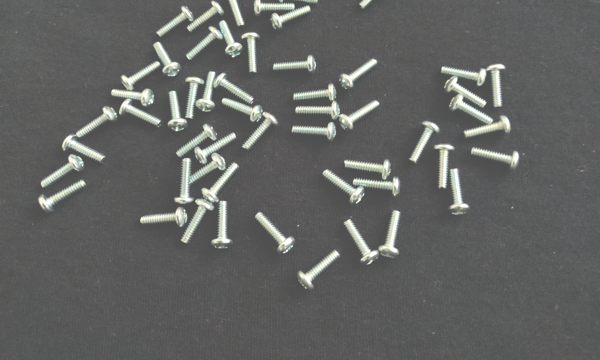shortscrew: (297, 250, 341, 292), (254, 212, 295, 256), (345, 219, 380, 267), (322, 169, 366, 206), (180, 199, 214, 246), (202, 162, 239, 205), (38, 181, 86, 213), (241, 112, 278, 153), (40, 156, 85, 189), (445, 75, 488, 109), (450, 94, 494, 127), (177, 124, 218, 159), (76, 106, 118, 140), (409, 121, 441, 165), (339, 100, 381, 133), (194, 133, 237, 165), (185, 26, 223, 62), (62, 134, 107, 163), (119, 100, 164, 129), (214, 73, 254, 105), (472, 148, 521, 174), (121, 61, 162, 92), (187, 0, 225, 33), (378, 210, 403, 260), (339, 59, 378, 91), (157, 6, 194, 39), (269, 5, 312, 32), (222, 96, 263, 124), (463, 115, 512, 138), (191, 154, 227, 184), (353, 176, 402, 198), (212, 201, 234, 250), (174, 159, 196, 208), (449, 168, 470, 217), (434, 143, 455, 192), (155, 41, 181, 80), (344, 160, 392, 181), (140, 208, 189, 228), (485, 64, 507, 108), (273, 55, 317, 77), (291, 122, 337, 143), (195, 71, 218, 113), (442, 66, 487, 87), (295, 100, 340, 121), (220, 21, 245, 58), (184, 75, 204, 120), (292, 83, 339, 102), (112, 88, 155, 108), (242, 32, 262, 74), (168, 91, 187, 132), (253, 0, 295, 17), (223, 0, 245, 29), (358, 0, 395, 12), (277, 0, 318, 7)
